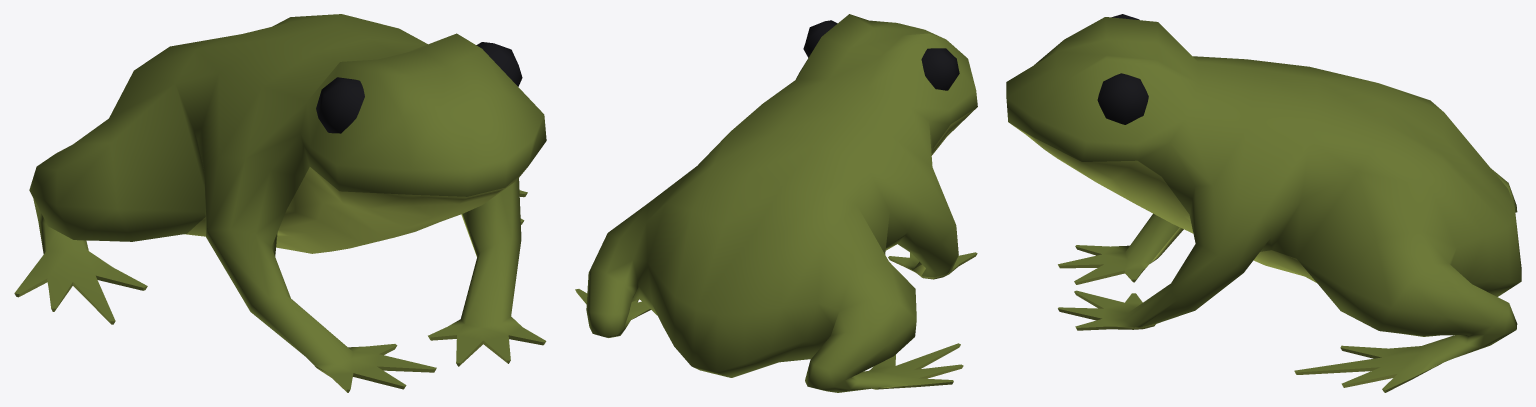
File: frog-assetquest.glb
3 views of the same model, side by side, from view 1: azimuth 30°, elevation 25°; view 2: azimuth 150°, elevation 25°; view 3: azimuth 270°, elevation 25° (orthographic). The views are drawn at different scales.
Parts seen in each view (by area): view 1: Frog_1; view 2: Frog_1; view 3: Frog_1.
Boxes of the visible parts, x1,y1,x2,y2 form: Frog_1: (14,14,546,392); Frog_1: (575,14,977,392); Frog_1: (1006,14,1521,392).
Size of the model in its own units: 0.2265 by 0.1278 by 0.2374.
1 material, 1 textured.
